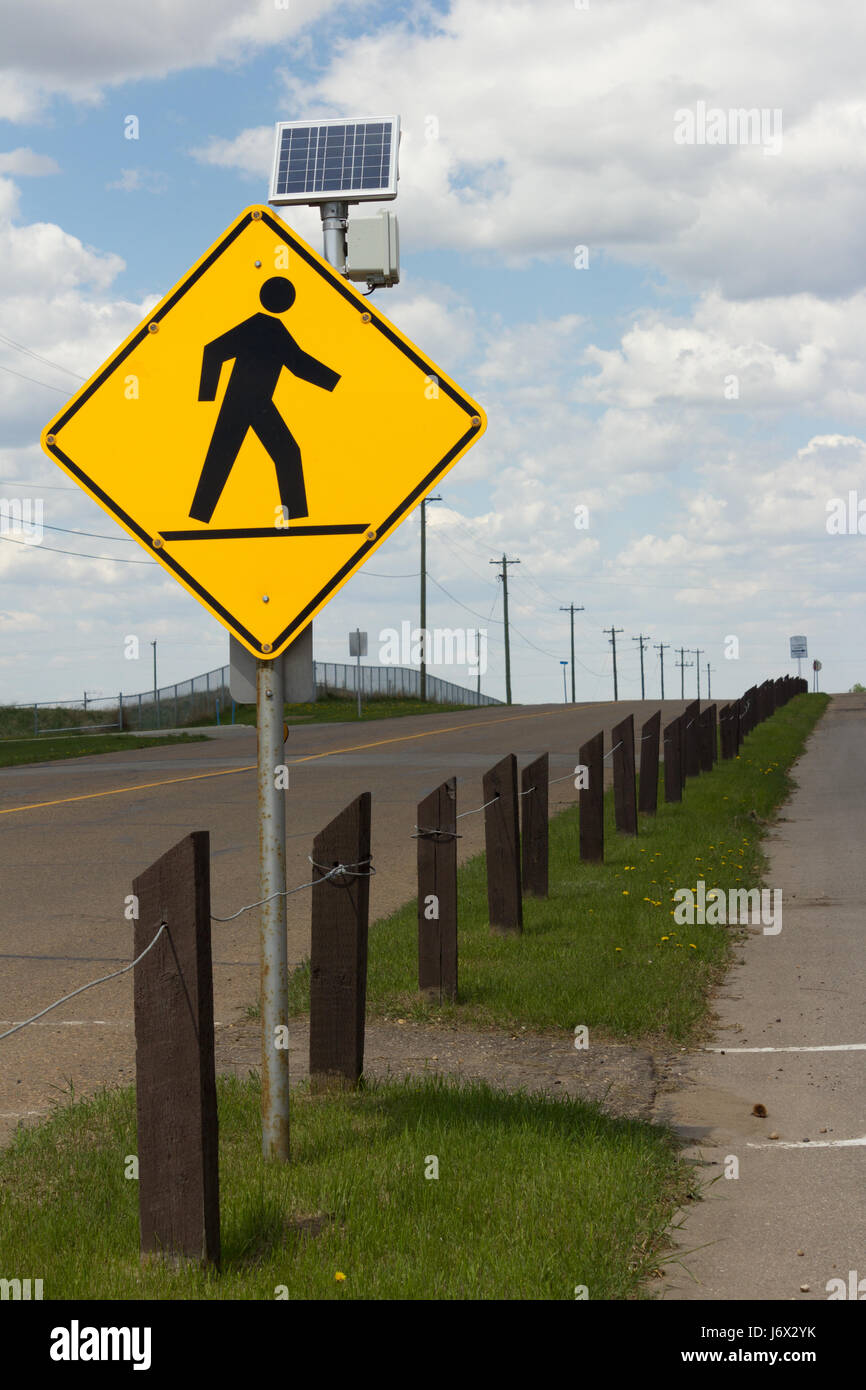pedestrian: (33, 204, 488, 662)
